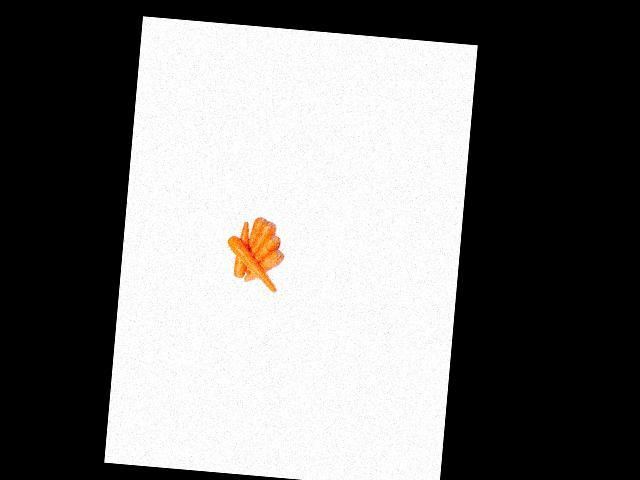carrot: (243, 249, 288, 290)
